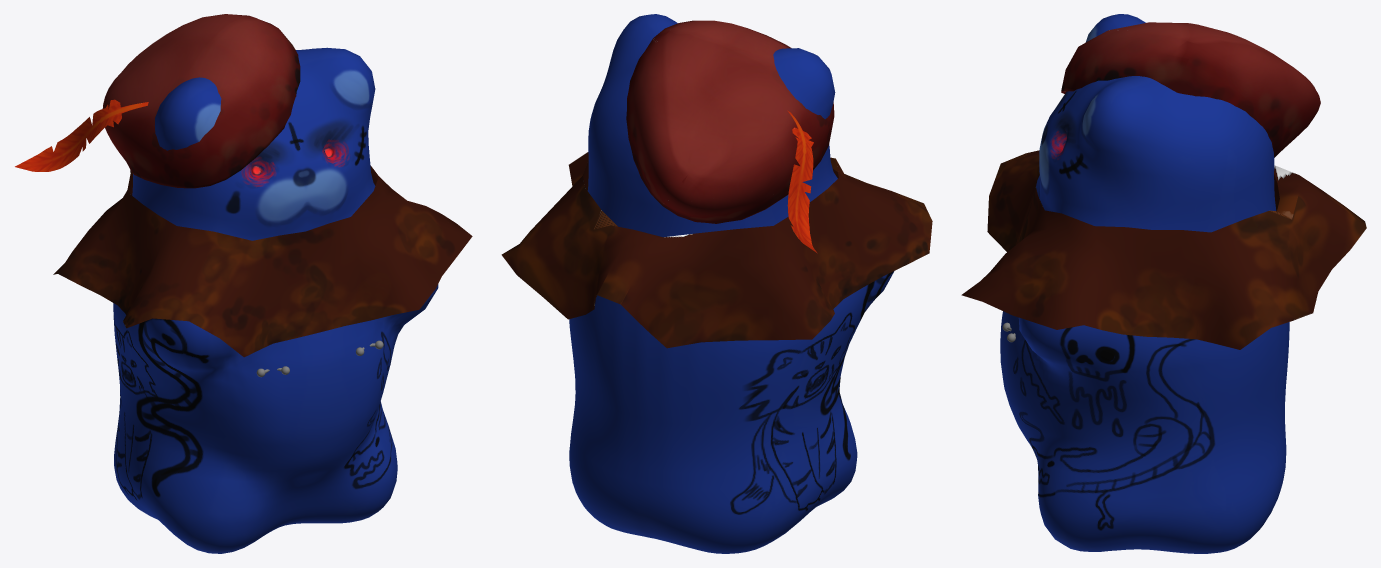
Rendered from bear-big-blue.fbx.
3 views of the same model, side by side, from view 1: azimuth 30°, elevation 25°; view 2: azimuth 150°, elevation 25°; view 3: azimuth 270°, elevation 25° (orthographic). The views are drawn at different scales.
Visible parts, largest first — view 1: bear-big-blue, Plane, Cone, Plane.001; view 2: bear-big-blue, Plane, Cone, Plane.001; view 3: bear-big-blue, Plane, Cone.
Part boxes in pixels (left/top/right/bottom): bear-big-blue: left=113, top=47, right=438, bottom=553; Plane: left=53, top=165, right=472, bottom=357; Cone: left=102, top=14, right=300, bottom=188; Plane.001: left=15, top=99, right=148, bottom=171; bear-big-blue: left=569, top=14, right=894, bottom=553; Plane: left=501, top=152, right=932, bottom=348; Cone: left=626, top=20, right=834, bottom=223; Plane.001: left=787, top=110, right=817, bottom=253; bear-big-blue: left=1000, top=14, right=1289, bottom=553; Plane: left=961, top=150, right=1366, bottom=349; Cone: left=1061, top=22, right=1320, bottom=157.
Size of the model in its own units: 335 by 447 by 333.
5 materials, 4 textured.
